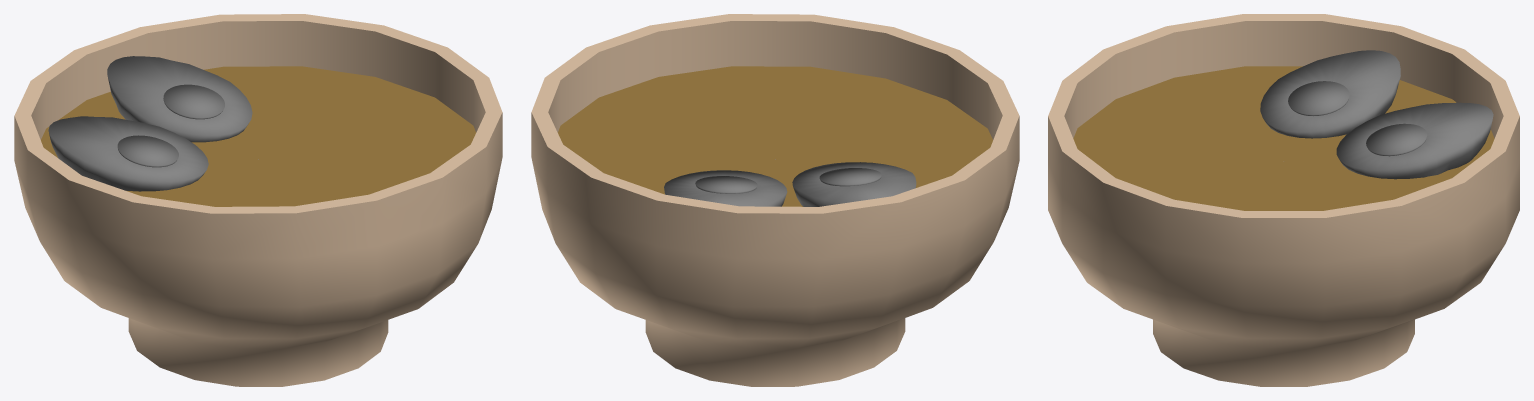
Rendered from miskazjajkami.fbx.
3 renders of one model, left to right at view 1: azimuth 30°, elevation 25°; view 2: azimuth 150°, elevation 25°; view 3: azimuth 270°, elevation 25°, orthographic.
Visible parts, largest first — view 1: Tube003; view 2: Tube003; view 3: Tube003.
Boxes of the visible parts, bbox=[...] form: Tube003: bbox=[14, 14, 502, 386]; Tube003: bbox=[531, 14, 1019, 386]; Tube003: bbox=[1048, 14, 1519, 386].
Bounding box in the file's own units: 3.37 × 1.67 × 3.29.
